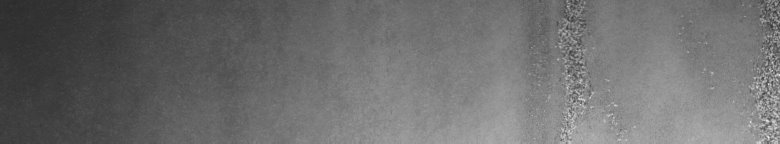hc: (702, 4, 776, 136)
